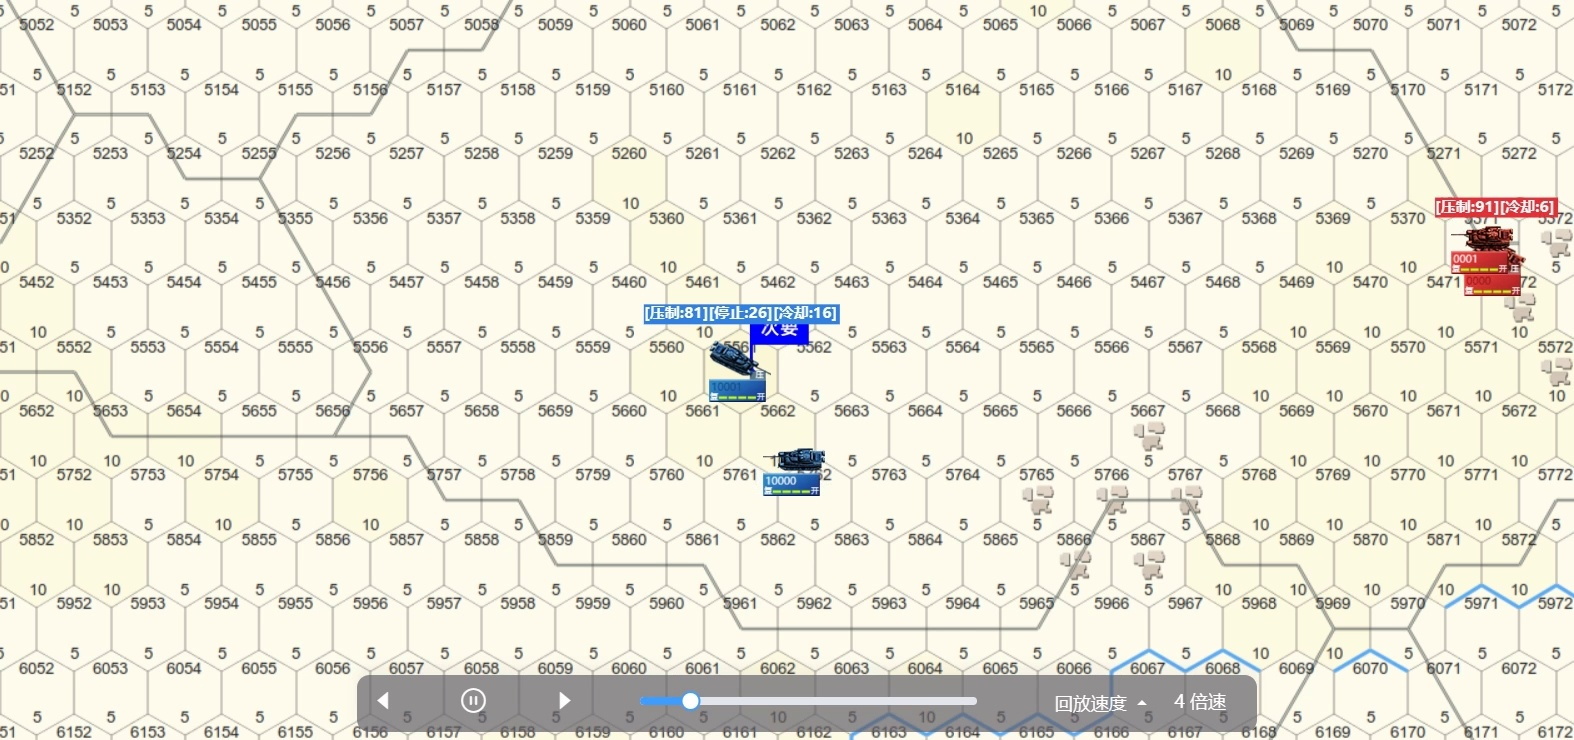blue_tank: (704, 341, 770, 399), (765, 445, 820, 494)
red_tank: (1458, 232, 1512, 288)
